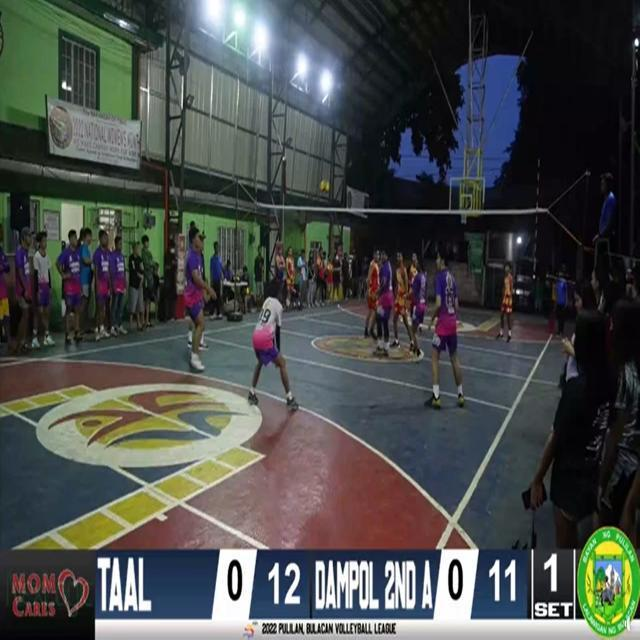volleyball: (318, 178, 332, 190)
